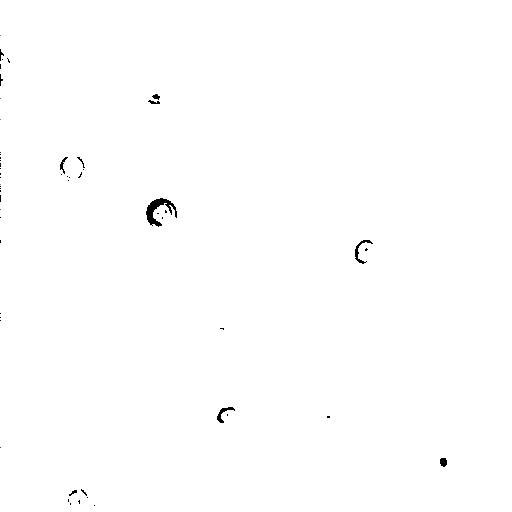micro-algae: (466, 164, 511, 235), (427, 443, 459, 483), (143, 197, 179, 231), (219, 80, 249, 109), (59, 152, 86, 183), (354, 238, 377, 264), (66, 487, 89, 509), (1, 50, 14, 81), (216, 406, 237, 424)
